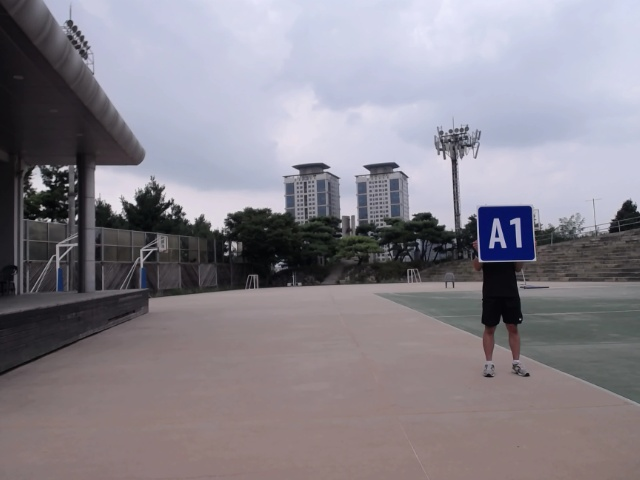delivery_a1: (478, 205, 536, 261)
